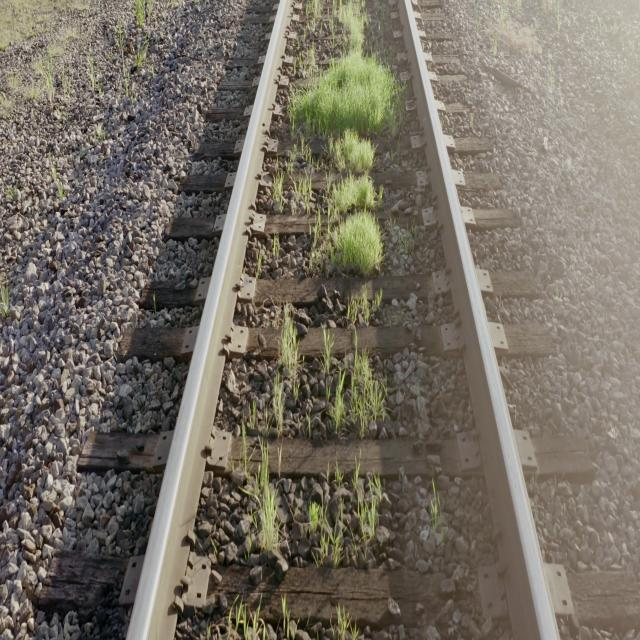Plant: (290, 0, 400, 276), (291, 53, 398, 136), (320, 333, 386, 438), (255, 444, 280, 551), (310, 502, 341, 567), (279, 304, 300, 396), (359, 482, 380, 551), (234, 604, 268, 638), (272, 369, 284, 429), (348, 296, 372, 324), (336, 609, 358, 638), (272, 162, 285, 198), (294, 176, 311, 198)
